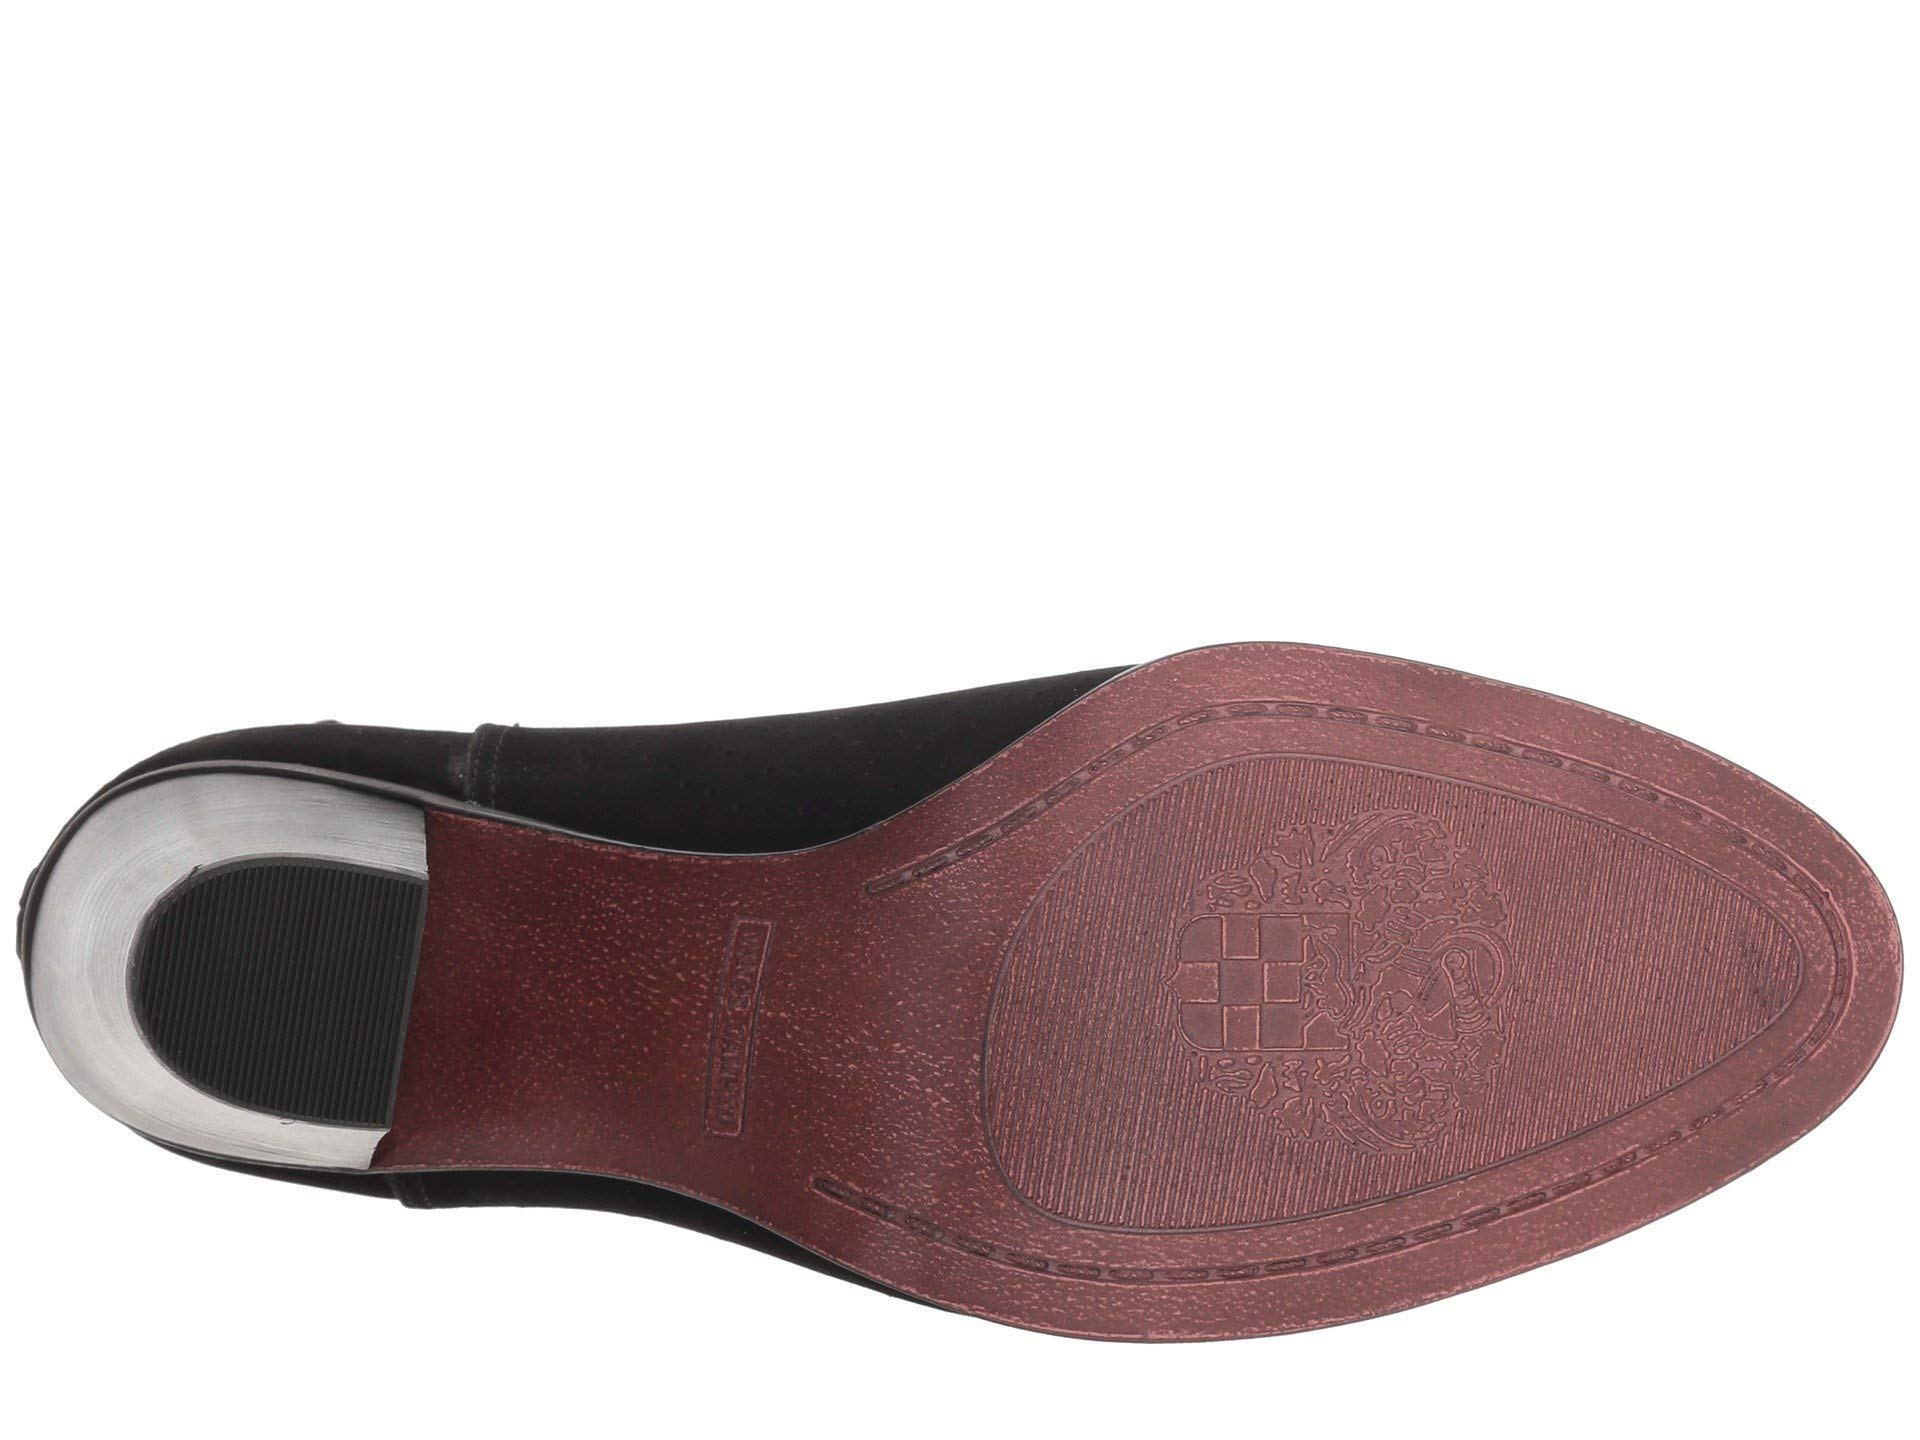line: (204, 892, 369, 1106), (1022, 917, 1143, 1198), (1533, 885, 1711, 1063)
quad: (1158, 909, 1361, 1098)
